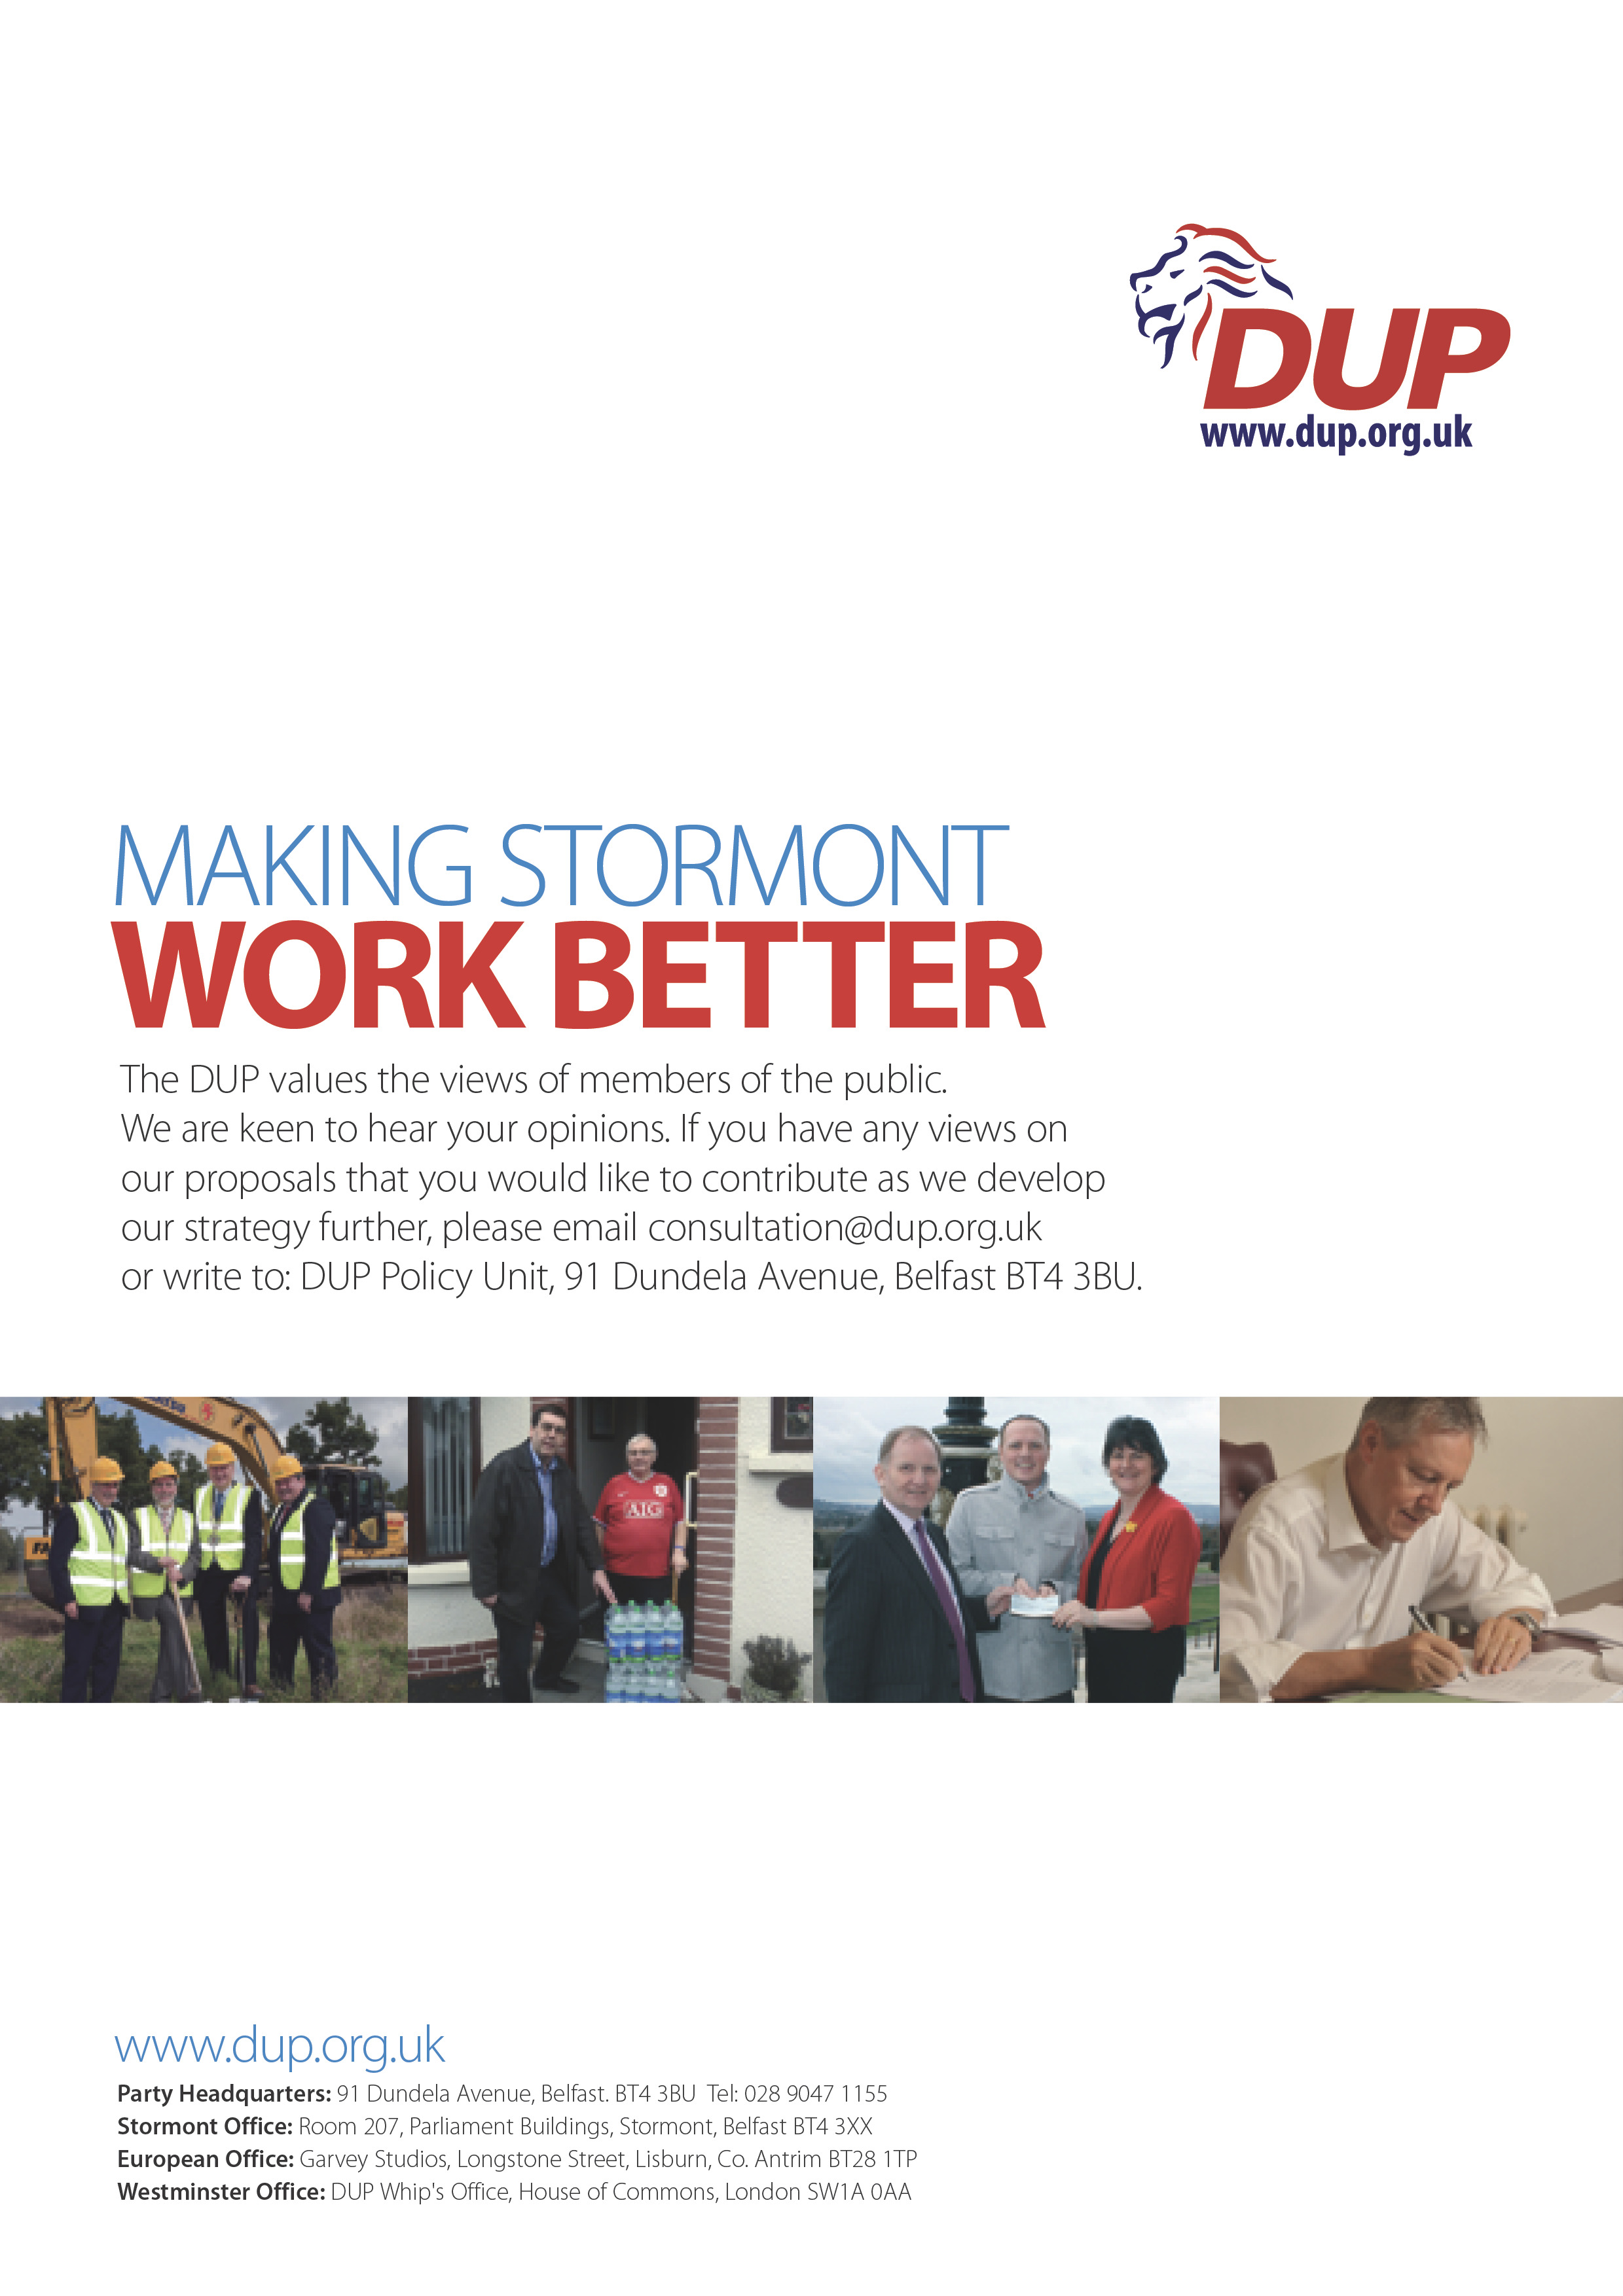figure: (11, 1392, 1611, 1708), (1096, 214, 1540, 462)
section: (88, 906, 1061, 1046), (105, 806, 1001, 915)
text: (119, 1053, 1163, 1309), (98, 2015, 941, 2219)
